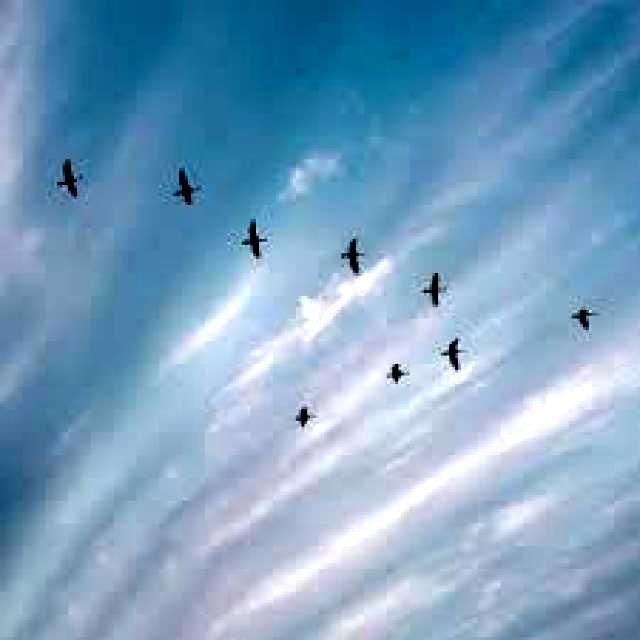bird: (48, 152, 92, 209), (336, 233, 372, 296), (558, 296, 608, 341), (234, 214, 277, 266), (414, 268, 457, 315), (285, 396, 327, 440), (170, 162, 200, 220), (439, 328, 474, 376), (382, 352, 416, 394)
